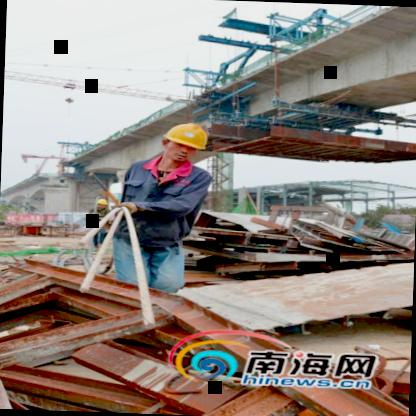helmet: (157, 120, 214, 163)
